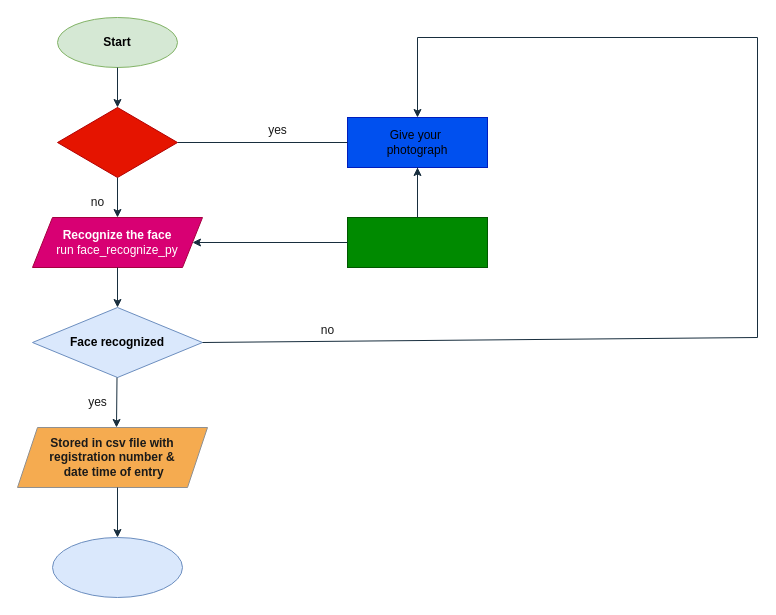
Image size: 776x615. Some labels were removed from this diagram. The centre of each missing label's shape, as x and y in pixels:
"End" belongs at point (117, 567).
"New user? run create_db" belongs at point (117, 142).
"Store the face data in folder on your name" belongs at point (417, 242).
